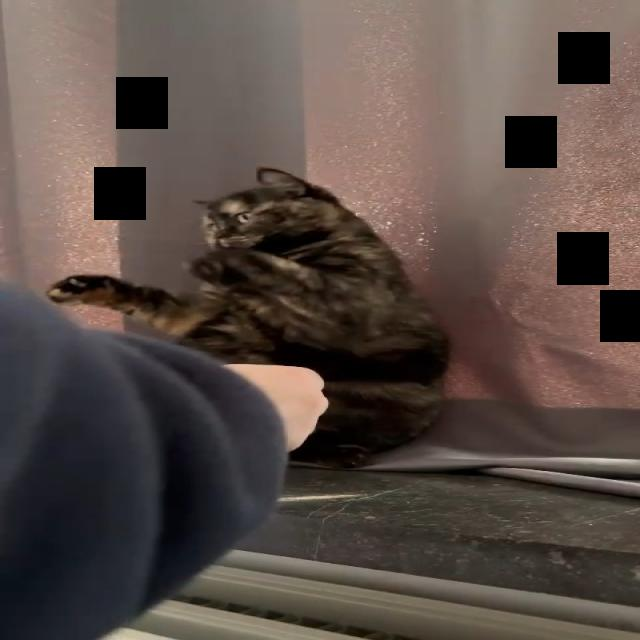authorized: (45, 165, 452, 468)
